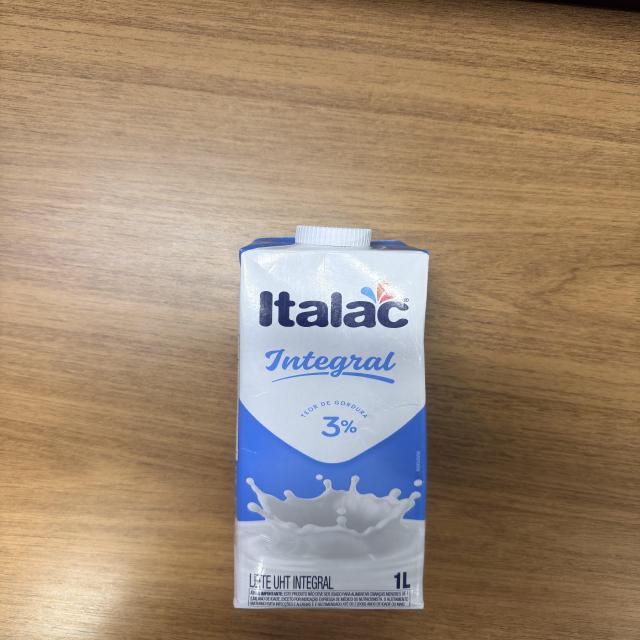Caixa de Leite: (241, 230, 437, 606)
